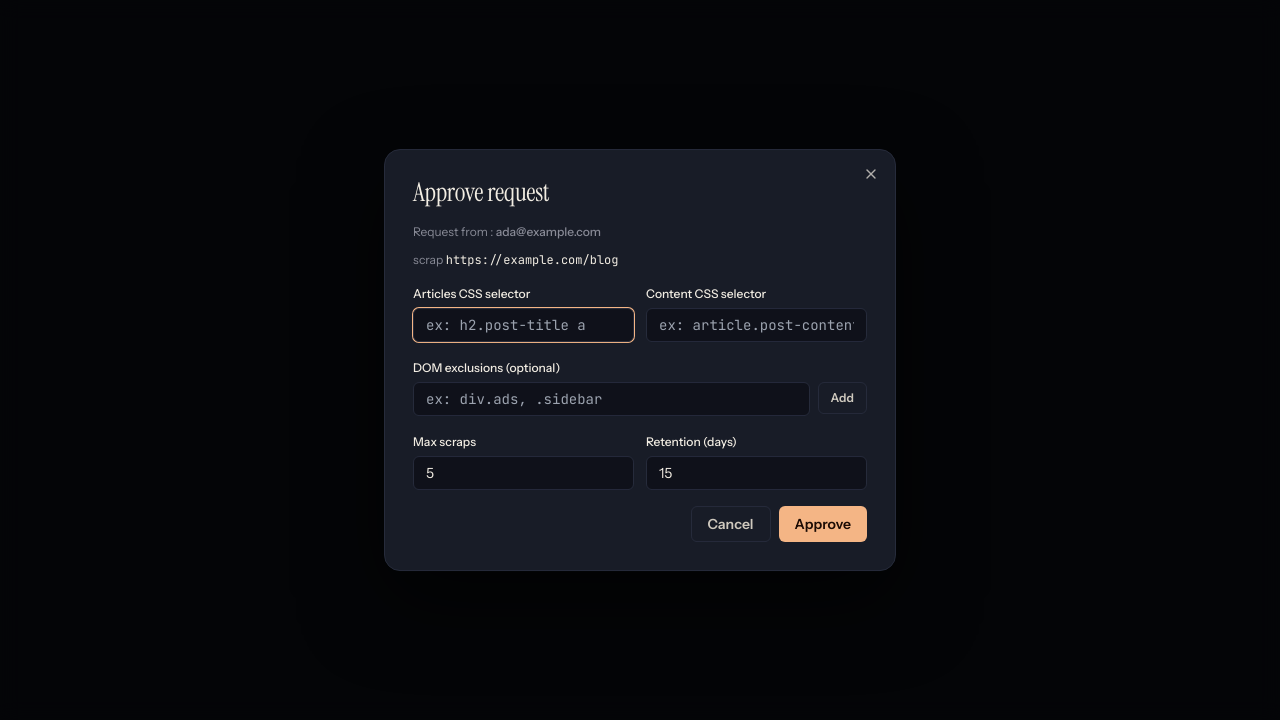
Test case: ScrapConfigFields (via the approve dialog) › adds an exclusion with a comma
In the field with placeholder "ex: div.ads, .sidebar": (611, 399) [413,382,810,416], type ".promo,"
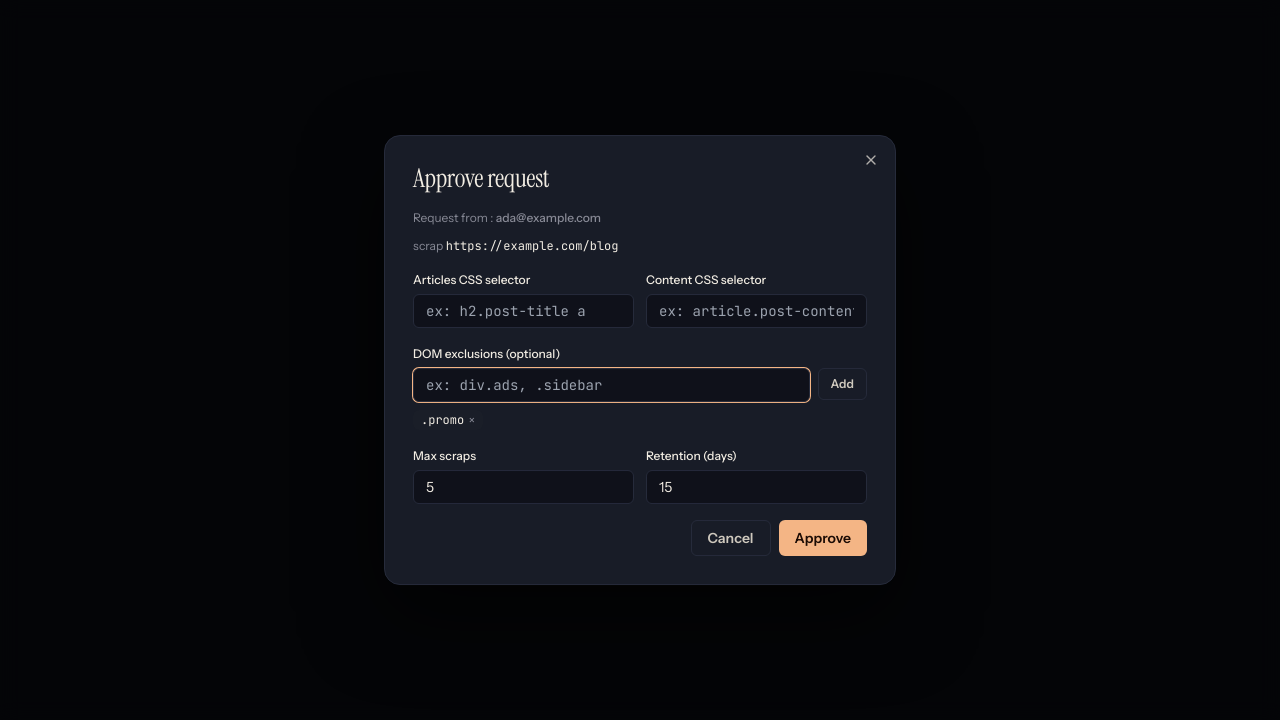
Expected: the text ".promo" is shown, [421,412,464,428]
